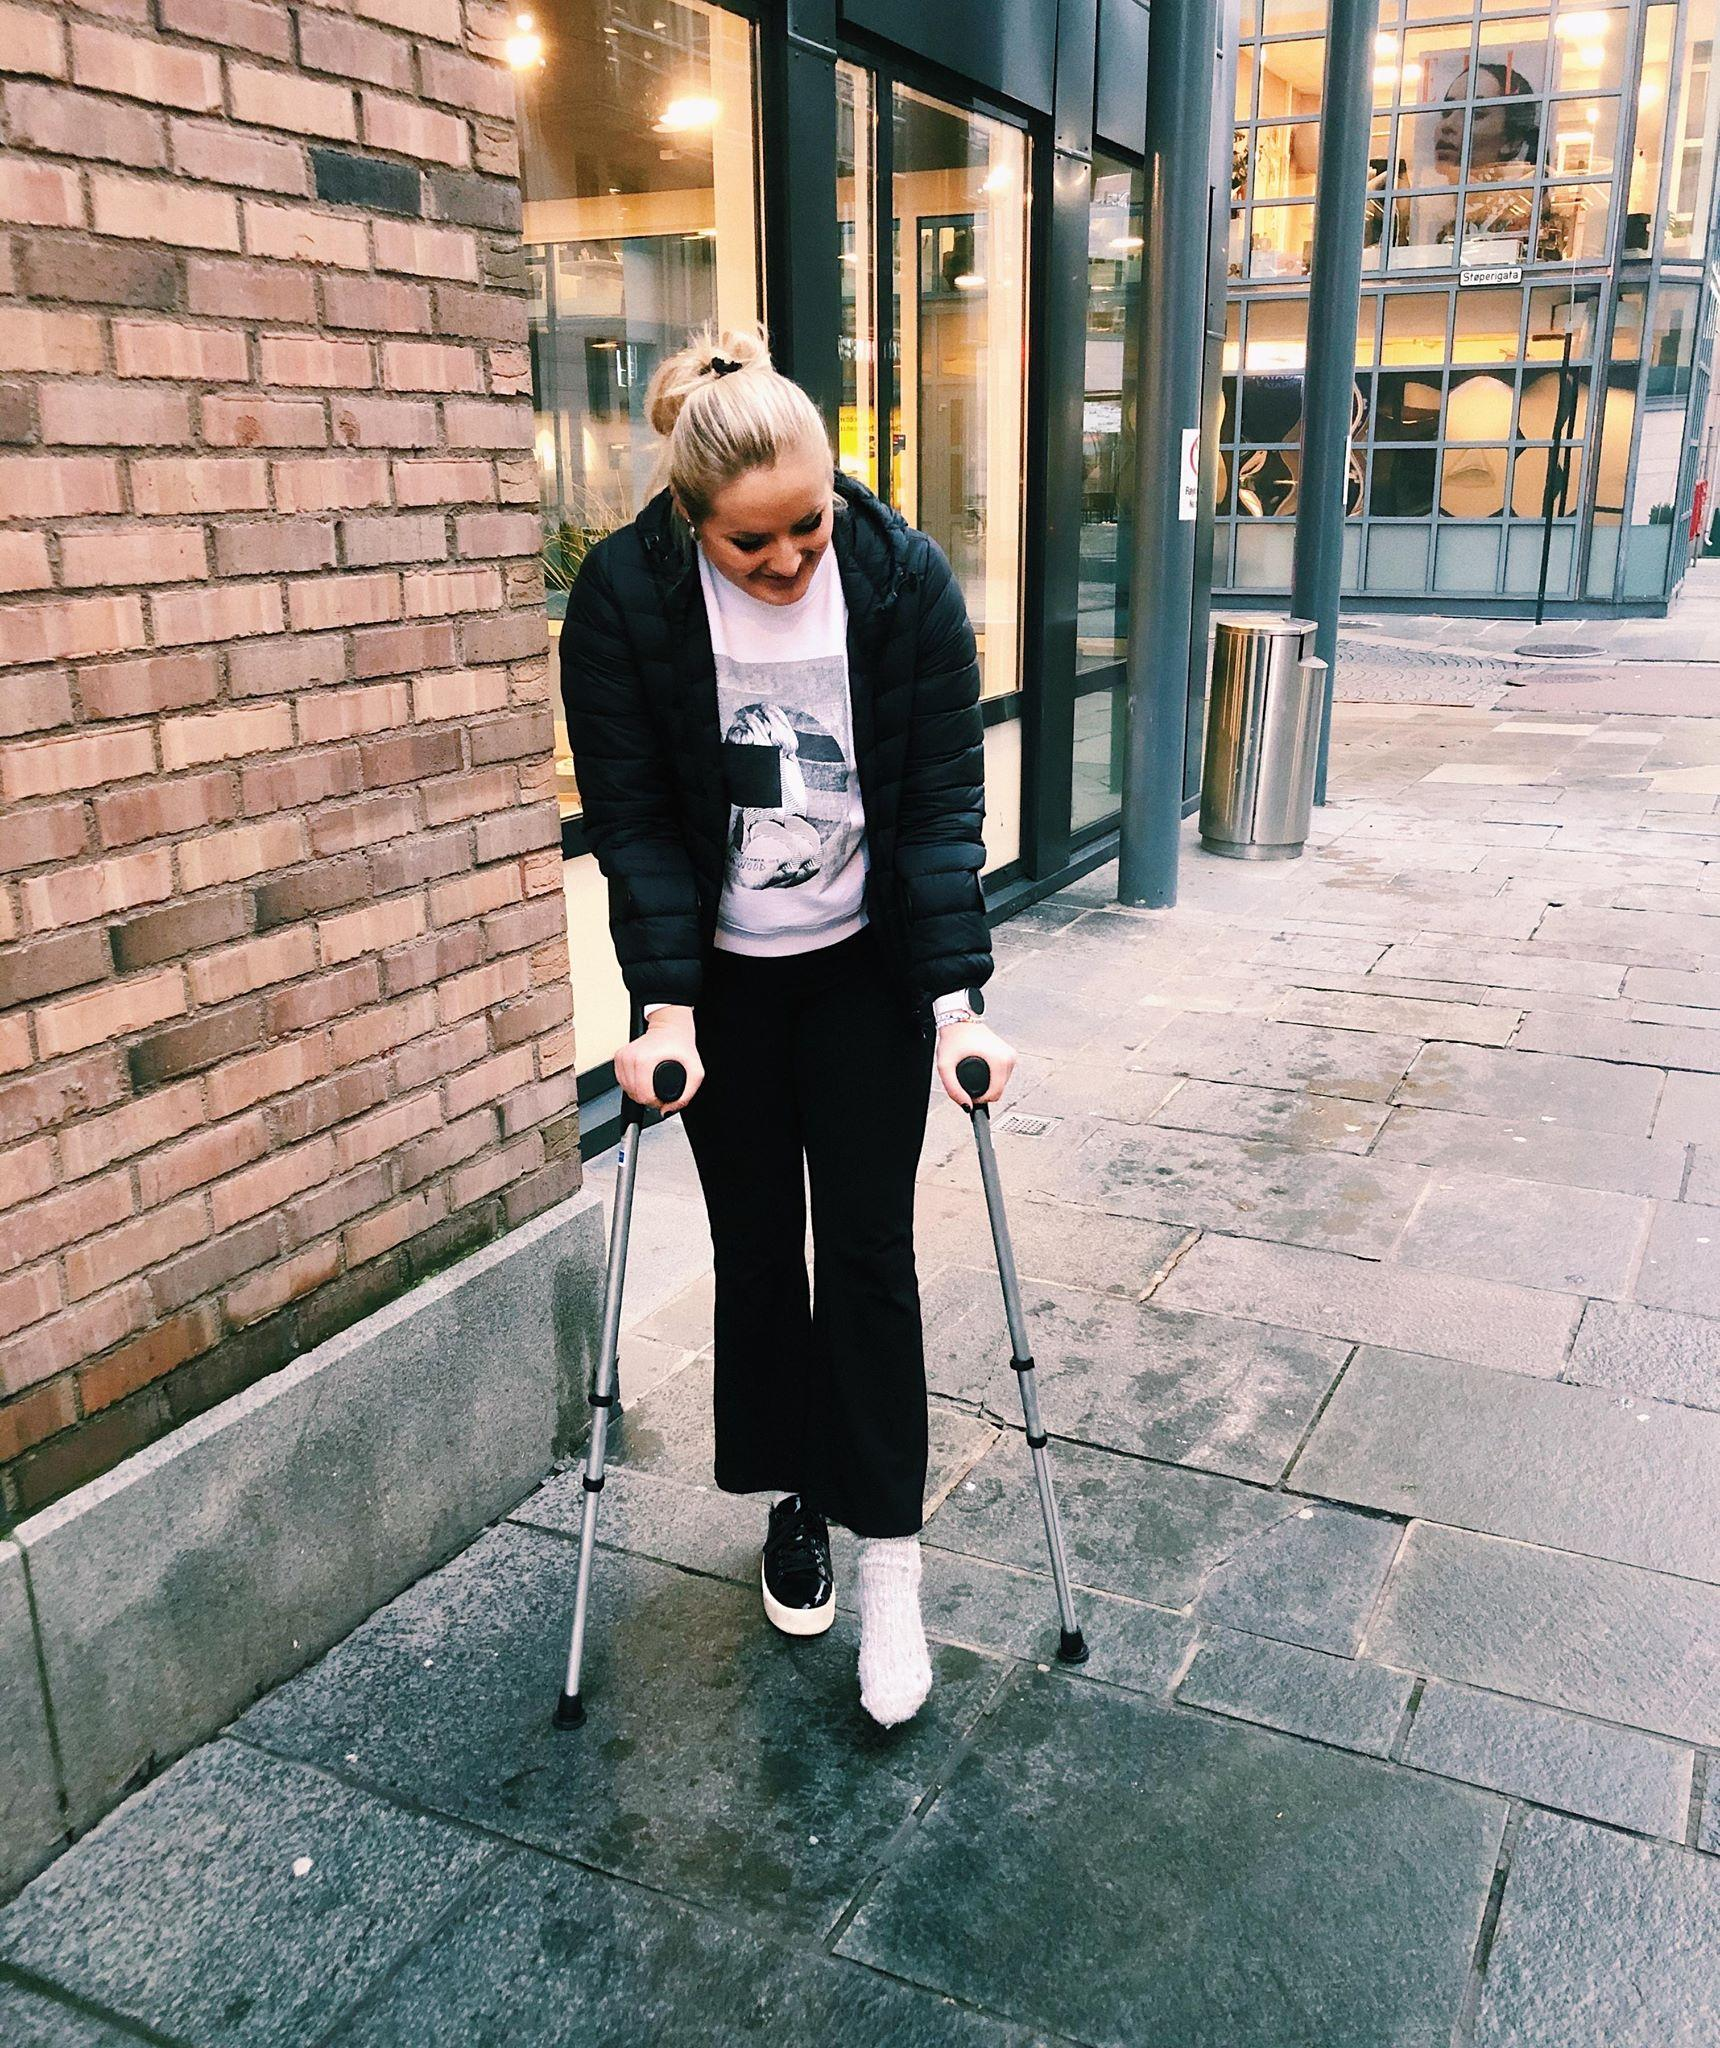crutches: (549, 329, 1094, 1724)
